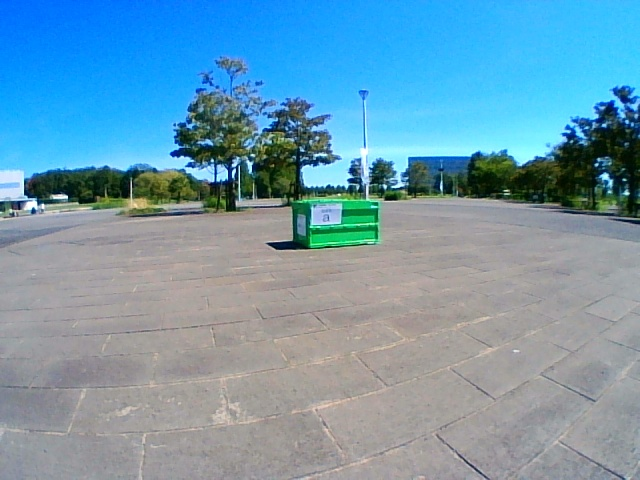green_box: (292, 199, 381, 249)
tag_a: (312, 204, 340, 223)
